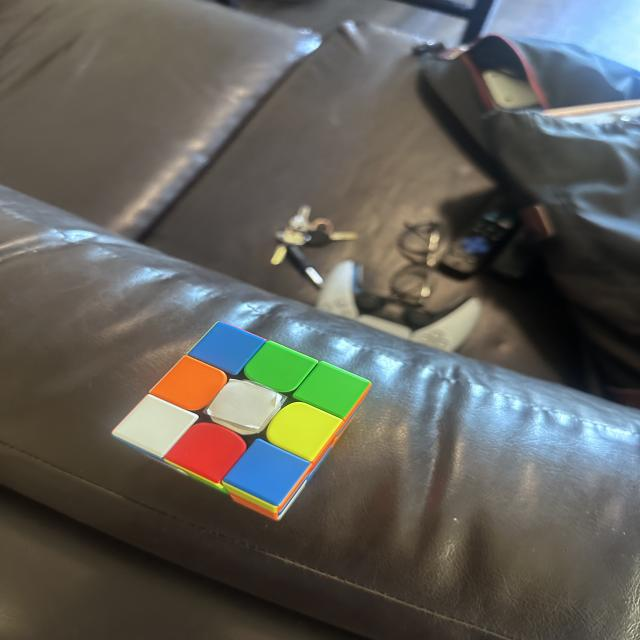sticker: (222, 438, 311, 515), (111, 394, 201, 460), (163, 422, 248, 486), (265, 401, 342, 462), (292, 361, 372, 418), (150, 355, 228, 411), (190, 321, 266, 375), (207, 380, 283, 431), (243, 341, 317, 393)
